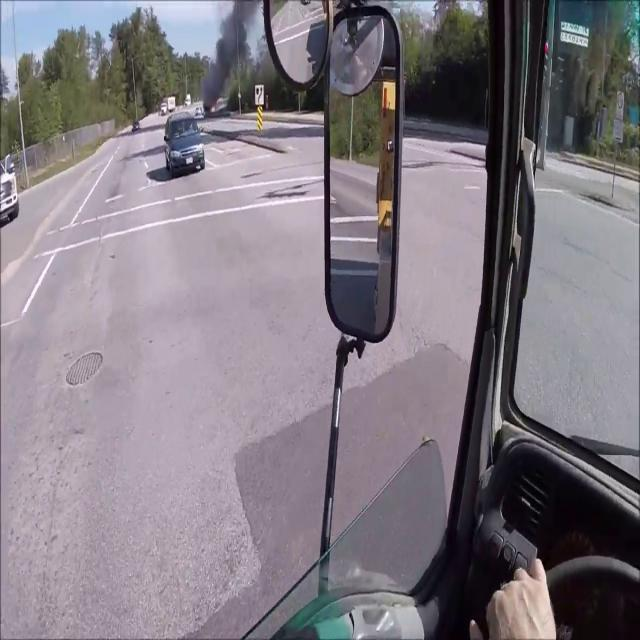Smoke: (202, 0, 269, 100)
